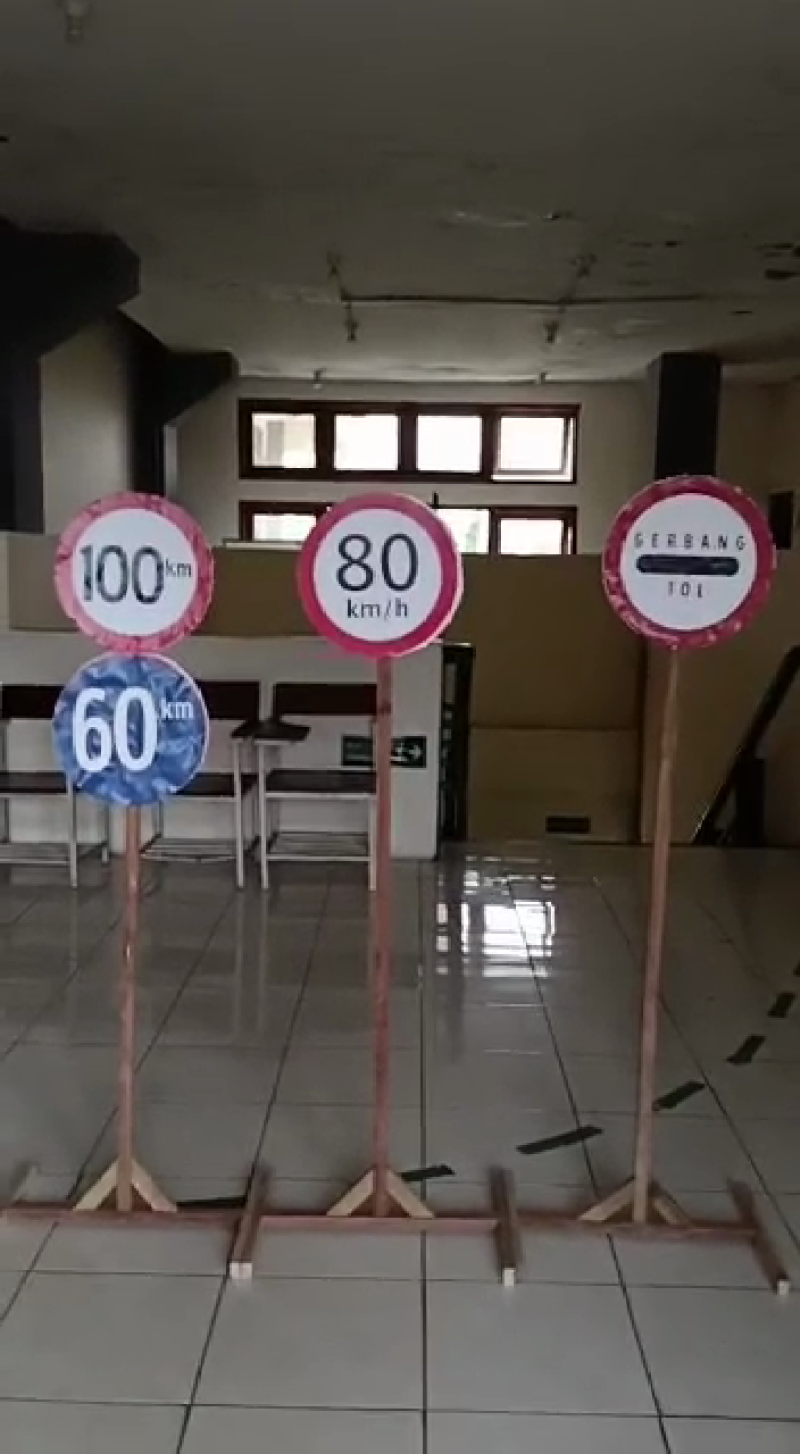batas maksimal 100kmperjam minimal 60kmperjam: (33, 479, 226, 824)
batas maksimal 80kmperjam: (285, 496, 472, 674)
gerbang tol: (585, 477, 779, 651)
